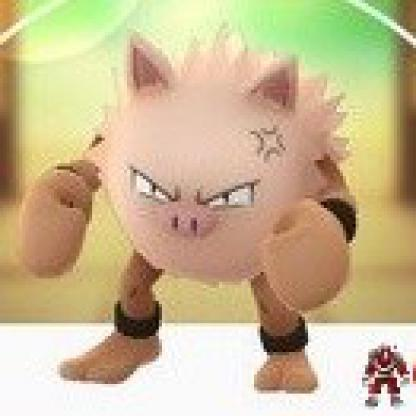Primeape: (30, 28, 359, 404)
